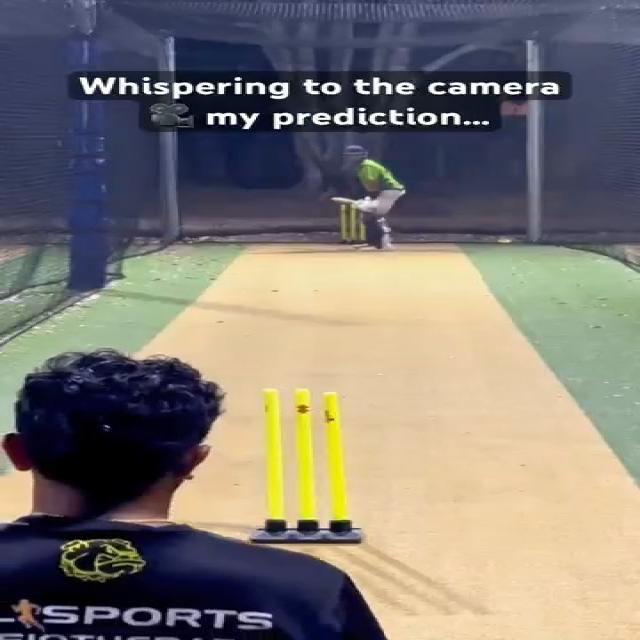stump: (248, 387, 364, 544)
